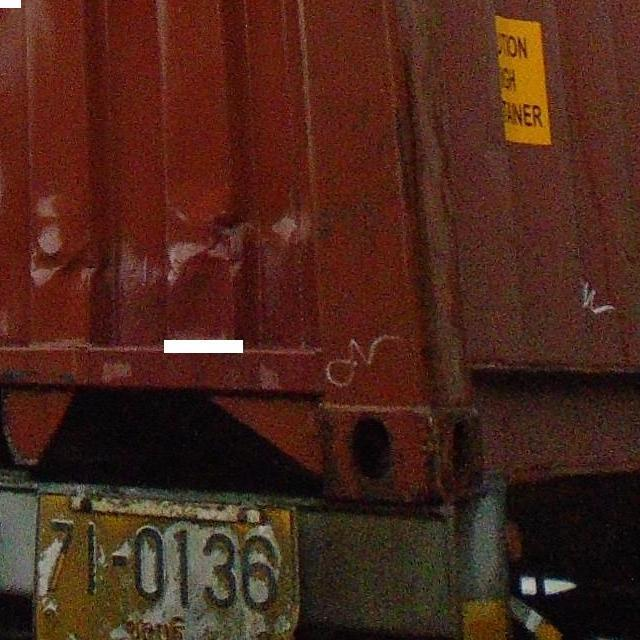dent: (24, 195, 288, 292)
